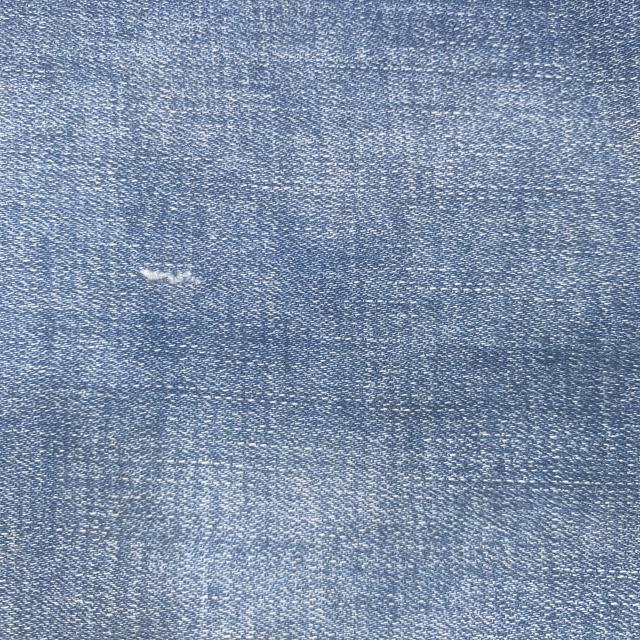Knot: (137, 268, 202, 286)
